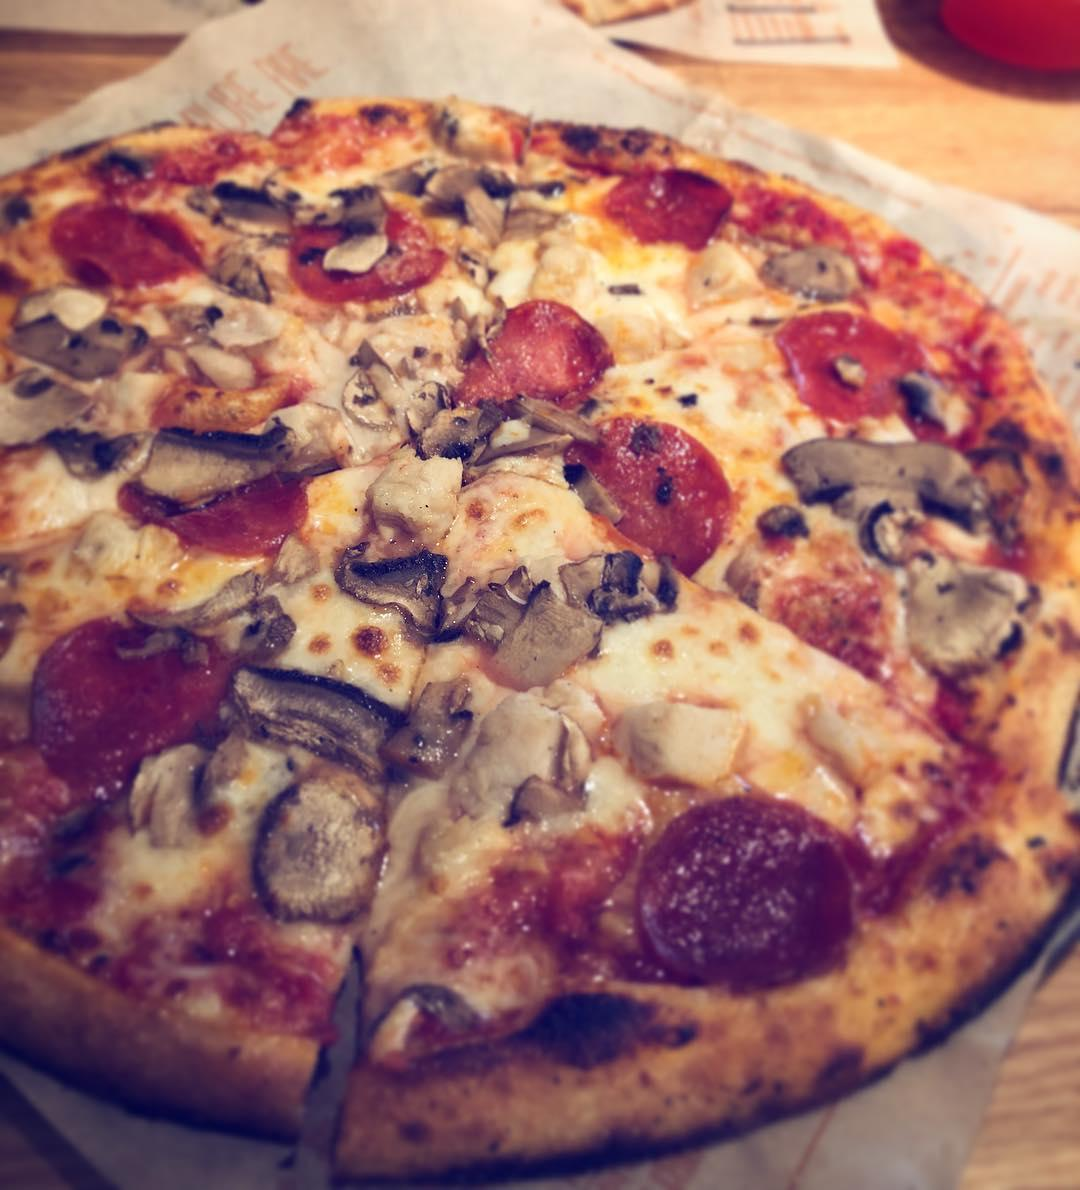Mushroom: (253, 667, 471, 919), (8, 294, 266, 447), (339, 540, 568, 665), (779, 430, 1000, 559), (889, 560, 1032, 676), (400, 161, 576, 230)
Pepperoni: (638, 795, 855, 988), (23, 614, 251, 794), (569, 412, 738, 576), (116, 476, 320, 564), (457, 299, 617, 410), (775, 305, 927, 419), (284, 201, 451, 303), (44, 199, 218, 295), (603, 165, 737, 255)
Pizza: (0, 93, 1080, 1190)
